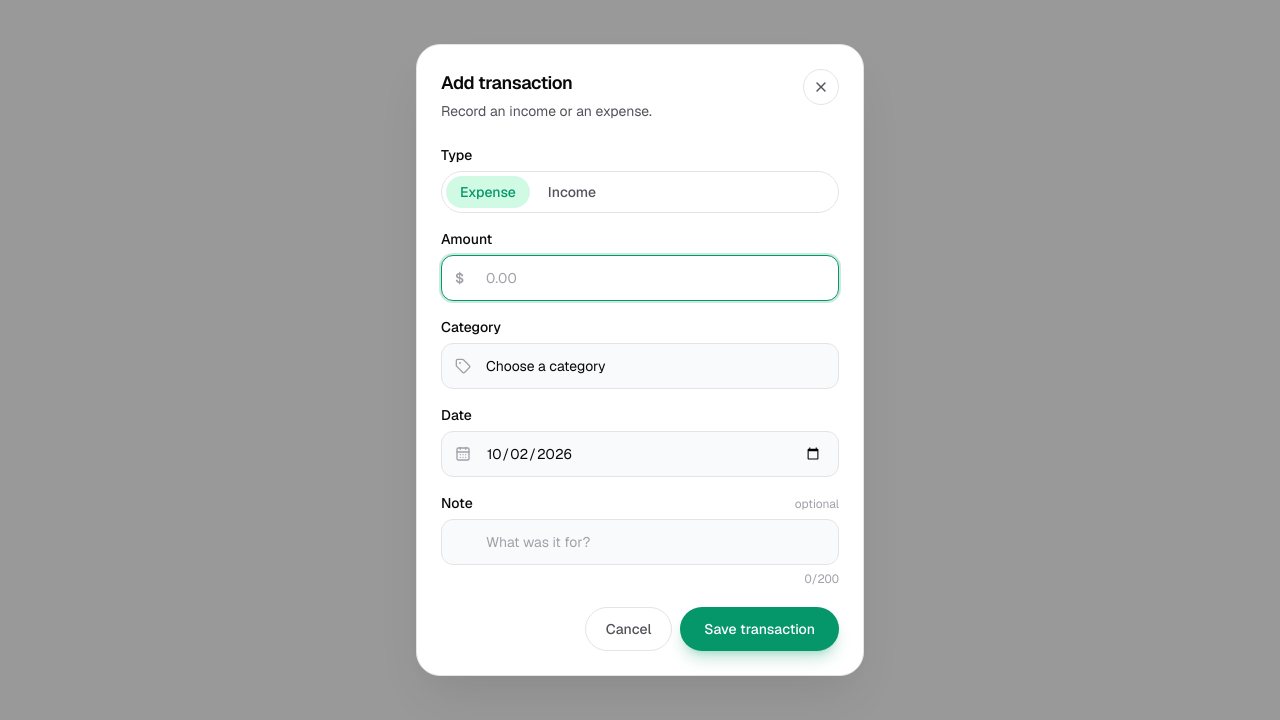
TransactionFormModal › adding a transaction › reports every missing field and saves nothing
What coordinates should you click on to do the following:
click the button "Save transaction"
I would click on:
 (760, 629)
Its box is 680,607 -> 839,651.
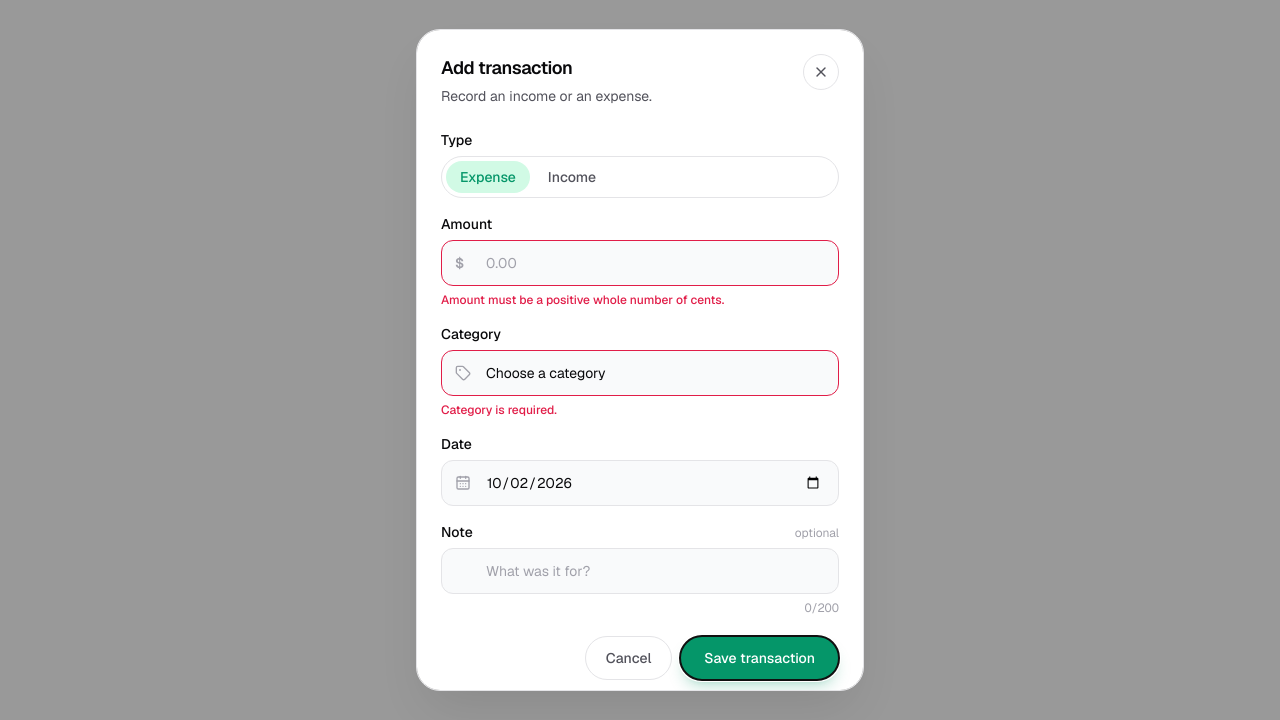
Check: the text "Amount must be a positive whole number of cents." is shown, box 441,292 -> 724,308
Check: the text "Category is required." is shown, box 441,402 -> 557,418
